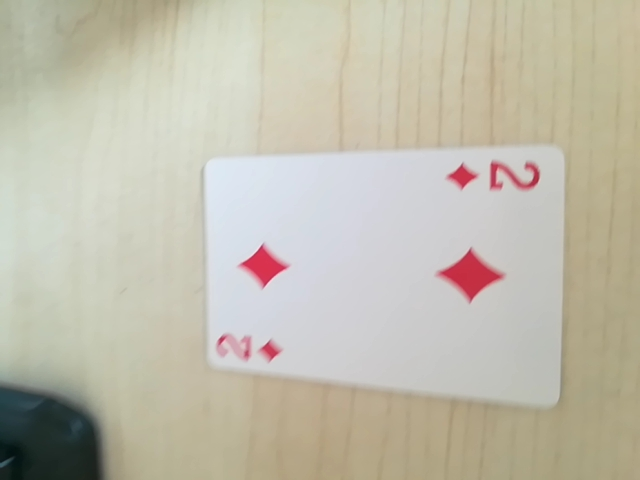fk 2: (444, 154, 549, 202), (214, 325, 289, 370)
